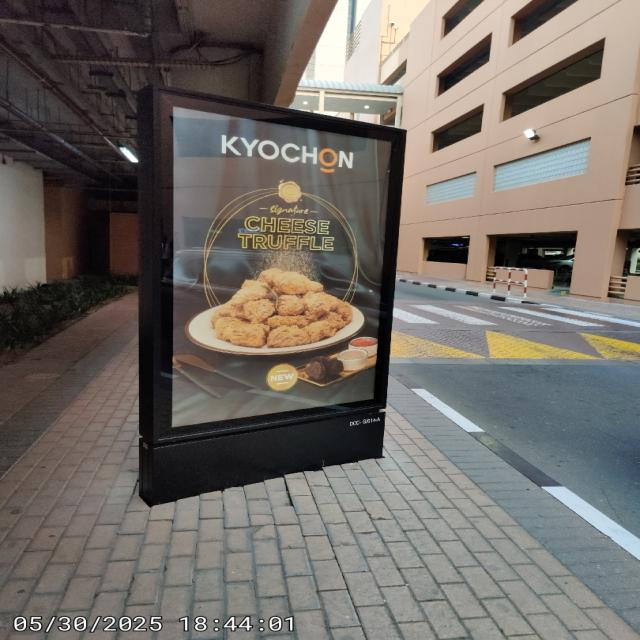mupi: (150, 88, 406, 501)
